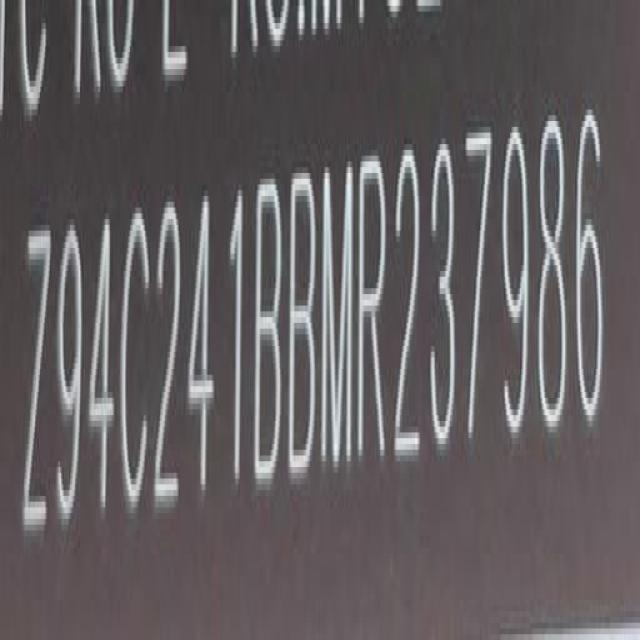1: (225, 182, 248, 504)
2: (155, 190, 187, 520), (395, 148, 426, 472)
3: (429, 140, 458, 462)
4: (89, 213, 119, 529), (190, 190, 219, 516)
6: (576, 105, 606, 440)
7: (461, 120, 494, 453)
8: (539, 110, 571, 444)
9: (55, 220, 86, 540), (503, 126, 533, 449)
B: (254, 174, 286, 493), (290, 163, 320, 490)
C: (118, 204, 154, 525)
M: (319, 156, 355, 482)
R: (358, 148, 390, 474)
Z: (20, 222, 51, 557)
